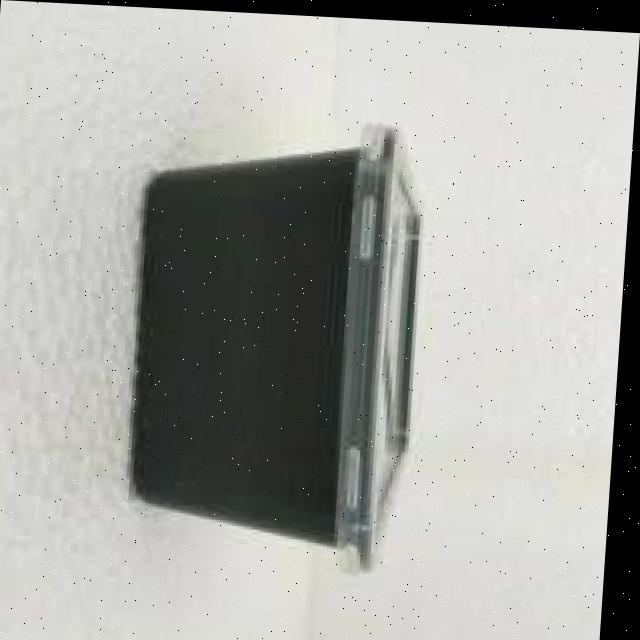disposable: (96, 105, 484, 589)
